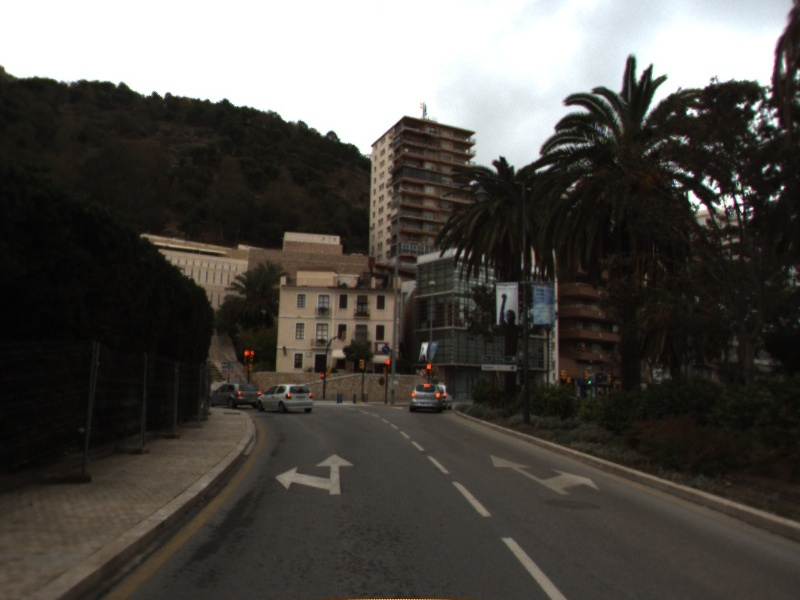STRAIGHT_LEFT: (274, 452, 356, 496)
STRAIGHT_RIGHT: (489, 453, 601, 496)
